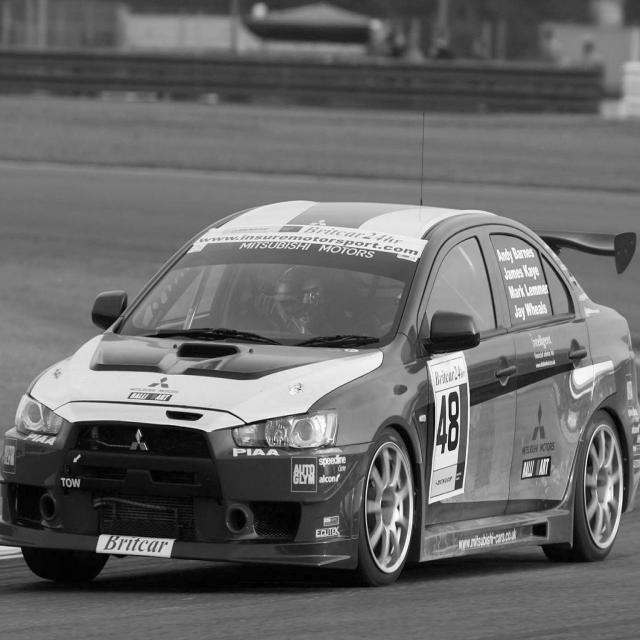car: (1, 198, 640, 588)
